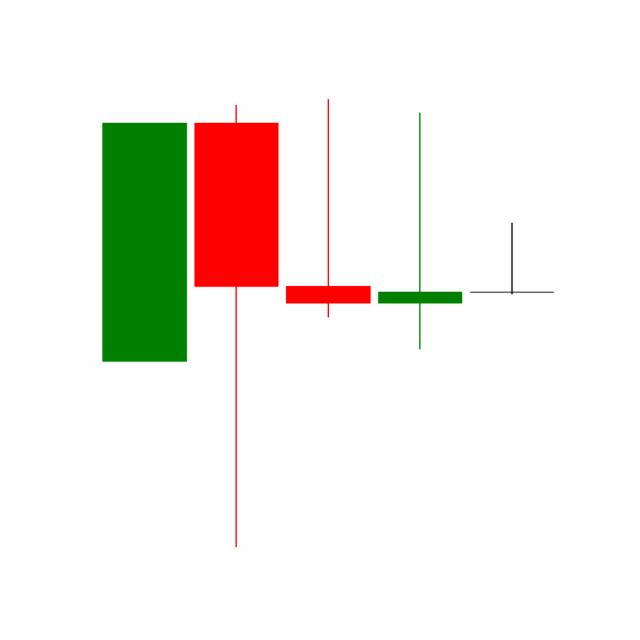Spinning Top: (373, 110, 467, 352)
